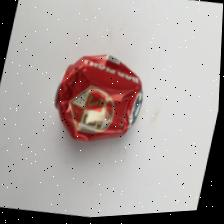metal: (33, 35, 161, 165)
